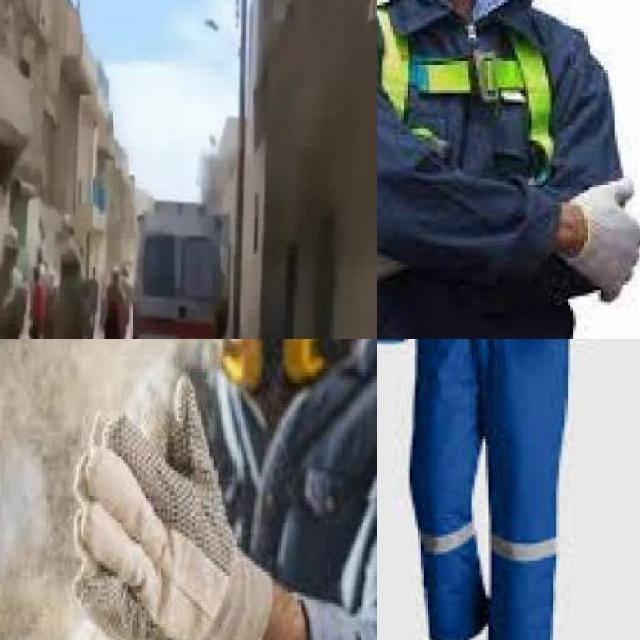apron: (84, 355, 272, 640), (571, 174, 640, 302), (377, 208, 409, 294)
